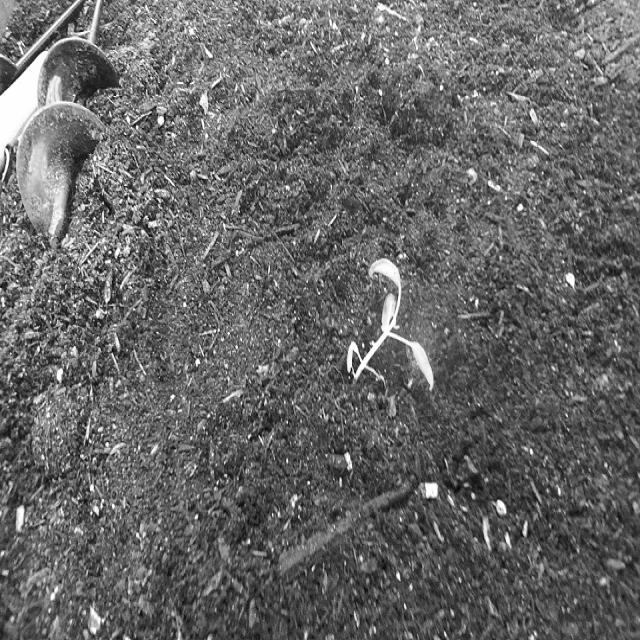Healthy: (322, 212, 442, 437)
